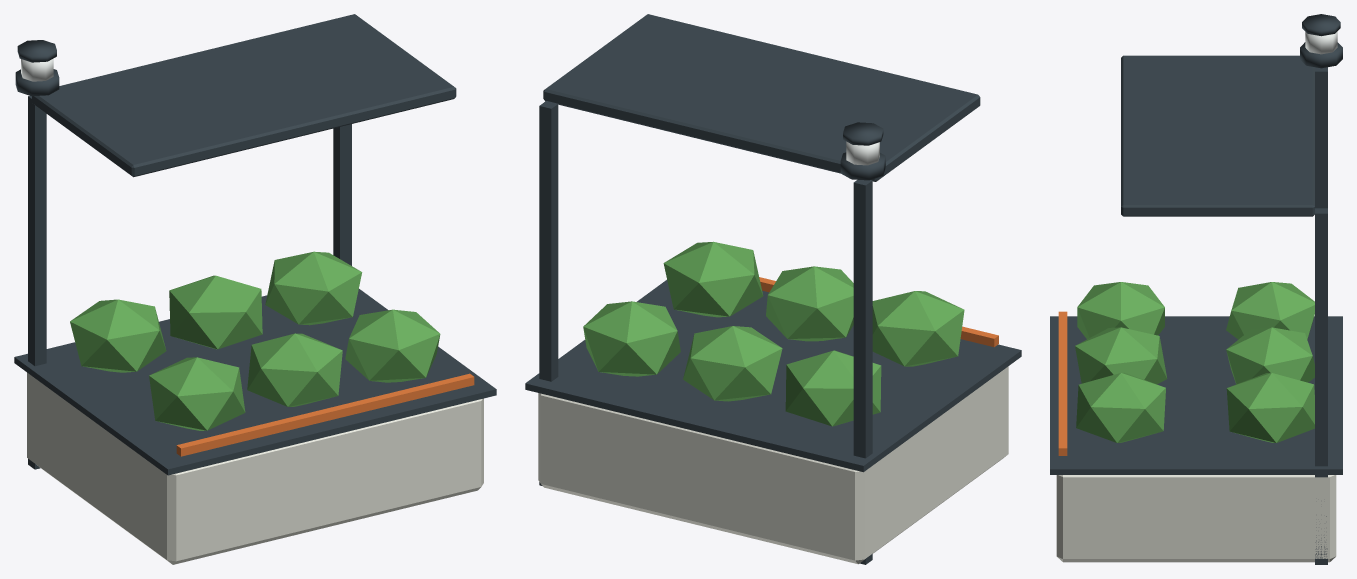
File: growbed.glb
3 renders of one model, left to right at view 1: azimuth 30°, elevation 25°; view 2: azimuth 150°, elevation 25°; view 3: azimuth 270°, elevation 25°, orthographic. The views are drawn at different scales.
Visible parts, largest first — view 1: GrowBed, Plants, Lamp; view 2: GrowBed, Plants, Lamp; view 3: GrowBed, Plants, Lamp.
Part boxes in pixels (<box>): GrowBed: <box>14,14,496,564</box>; Plants: <box>70,251,440,430</box>; Lamp: <box>15,40,59,96</box>; GrowBed: <box>525,14,1021,564</box>; Plants: <box>583,241,964,426</box>; Lamp: <box>840,122,885,180</box>; GrowBed: <box>1050,55,1342,564</box>; Plants: <box>1075,282,1314,442</box>; Lamp: <box>1300,14,1342,68</box>.
Bounding box in the file's own units: 1.72 × 2.04 × 1.36.
